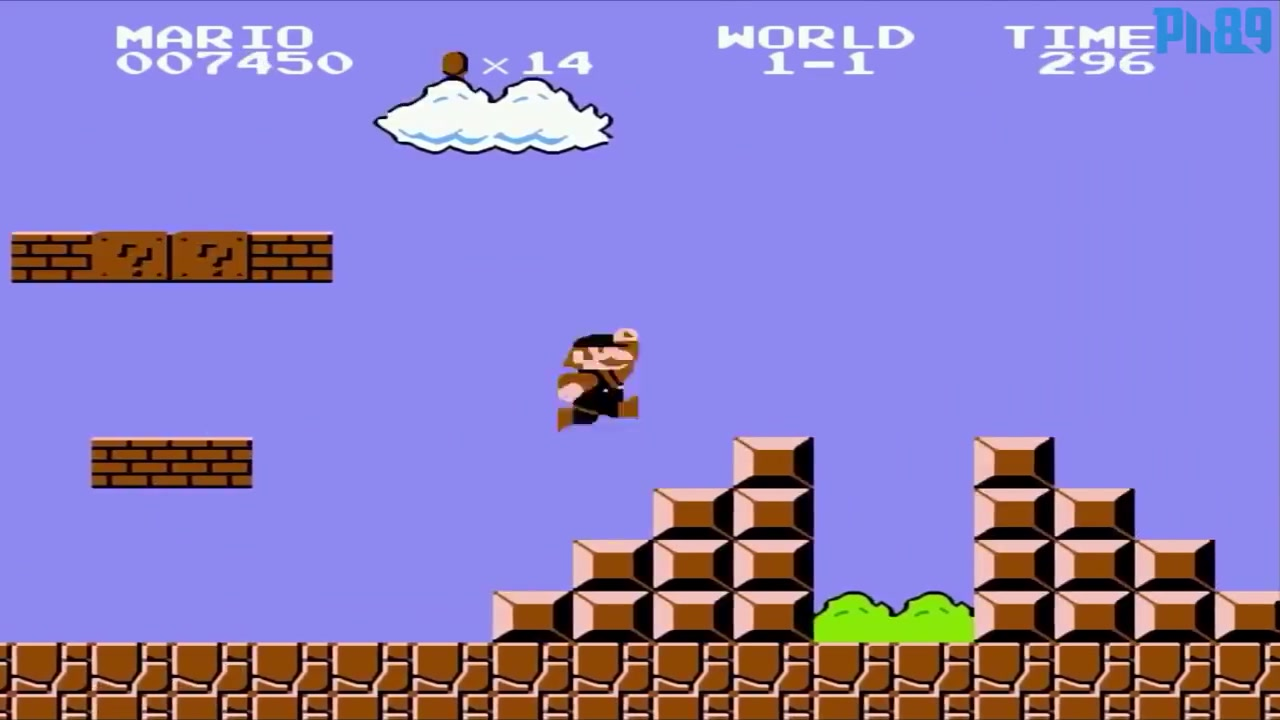mario: (544, 324, 647, 436)
